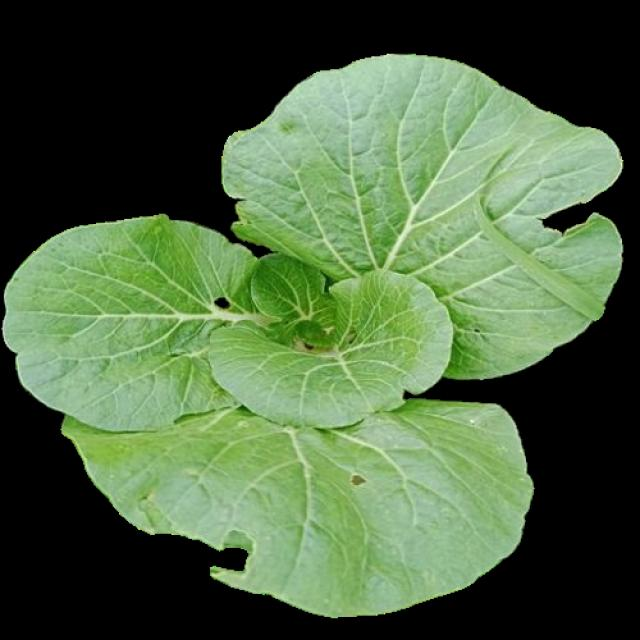mature: (5, 59, 617, 614)
unhealthy: (223, 59, 617, 366), (61, 400, 546, 610), (9, 213, 266, 432)
